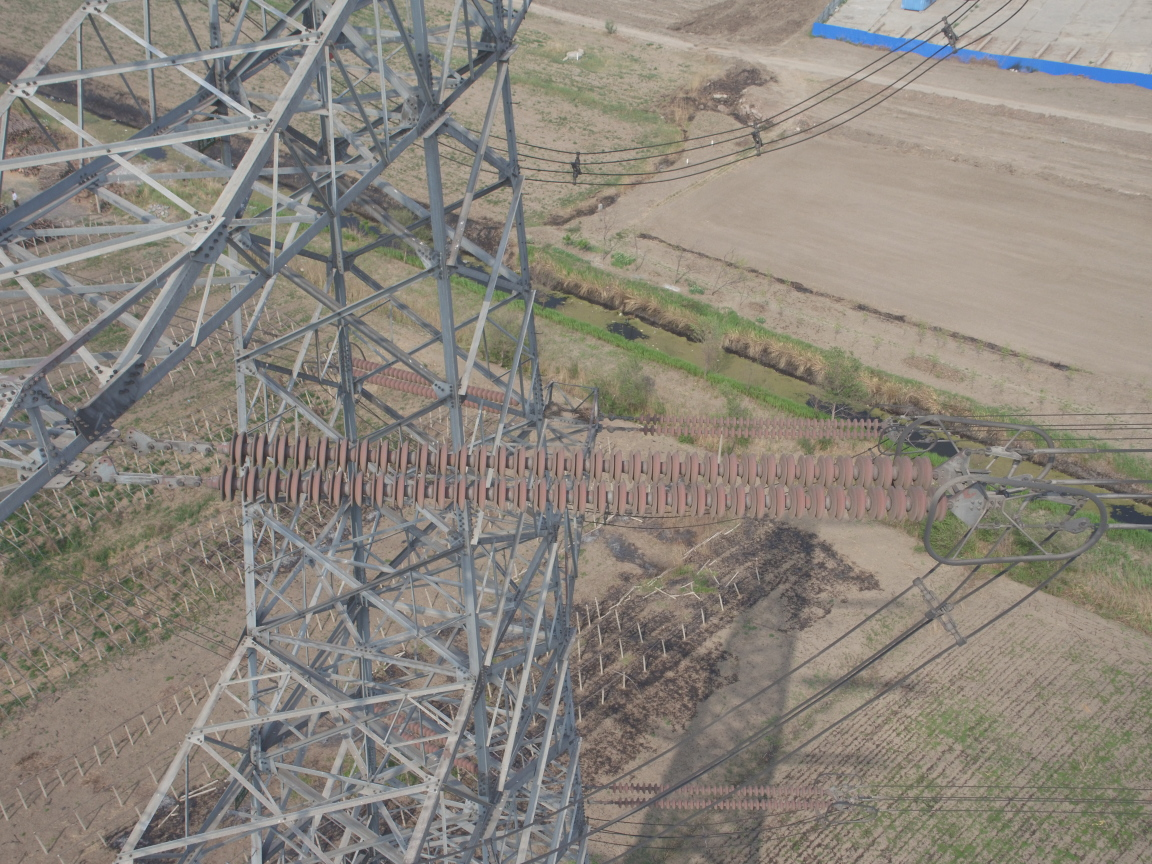insulator: (159, 425, 957, 527), (346, 358, 521, 416), (599, 777, 830, 810), (628, 413, 886, 439)
